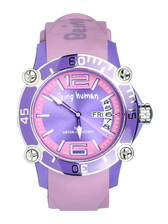watch: (13, 13, 156, 214)
